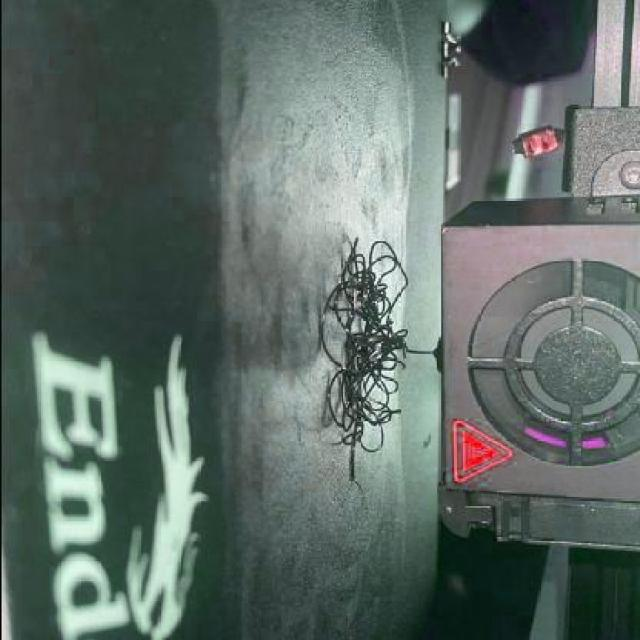Spaghetti: (321, 236, 408, 478)
